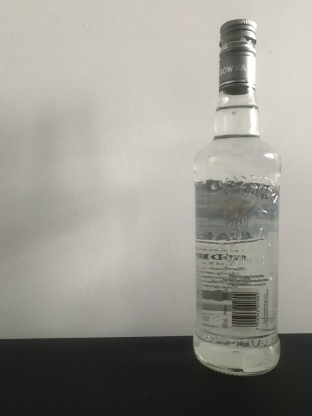nakretka: (217, 17, 257, 95)
